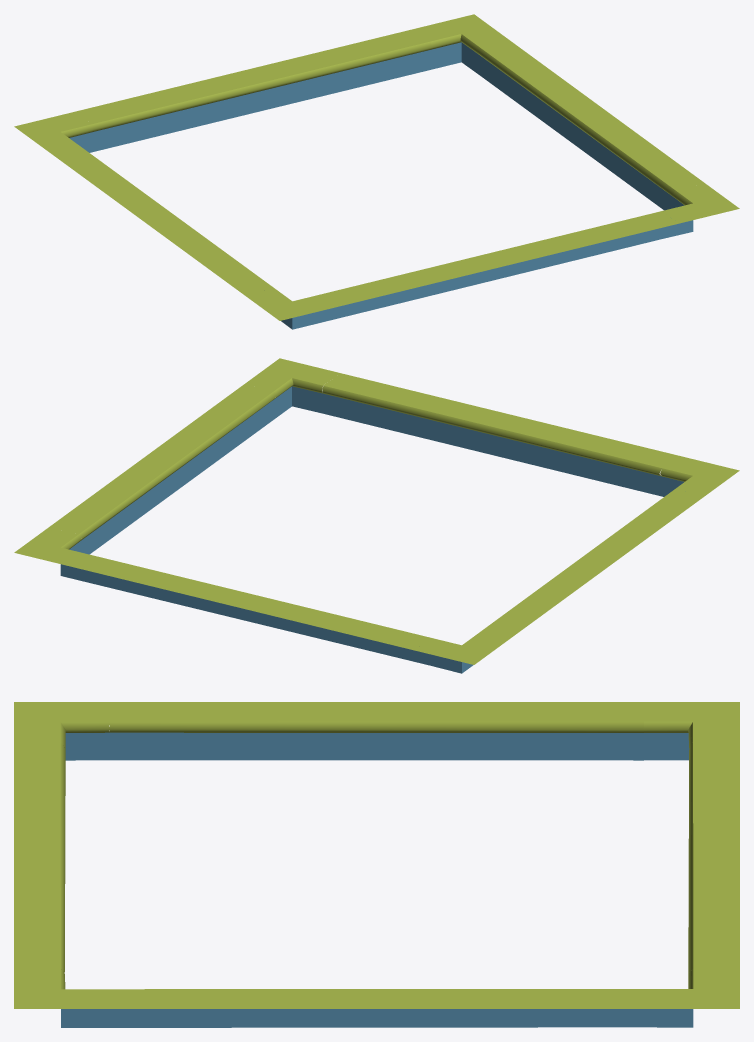
File: ModuleSci_steps_2.FBX
The picture shows the model from 3 angles, top to bottom: view 1: azimuth 30°, elevation 25°; view 2: azimuth 150°, elevation 25°; view 3: azimuth 270°, elevation 25°; orthographic projection. The views are drawn at different scales.
Parts seen in each view (by area): view 1: Module_sci_stair_044, Module_sci_stair_041, Module_sci_stair_043, Module_sci_stair_042, Module_sci_stair_045, Module_sci_stair_046, Module_sci_stair_047, Module_sci_stair_040; view 2: Module_sci_stair_043, Module_sci_stair_041, Module_sci_stair_044, Module_sci_stair_042, Module_sci_stair_046, Module_sci_stair_045, Module_sci_stair_040, Module_sci_stair_047; view 3: Module_sci_stair_042, Module_sci_stair_041, Module_sci_stair_043, Module_sci_stair_044, Module_sci_stair_047, Module_sci_stair_040, Module_sci_stair_045, Module_sci_stair_046.
Part boxes in pixels (x1,y1,x2,y2): Module_sci_stair_044: (75,29,431,152); Module_sci_stair_041: (477,40,704,210); Module_sci_stair_043: (323,211,678,321); Module_sci_stair_042: (49,145,273,295); Module_sci_stair_045: (413,14,508,74); Module_sci_stair_046: (662,183,739,238); Module_sci_stair_047: (14,111,93,152); Module_sci_stair_040: (245,288,340,329); Module_sci_stair_043: (322,373,678,496); Module_sci_stair_041: (49,384,276,554); Module_sci_stair_044: (75,555,430,665); Module_sci_stair_042: (480,489,704,639); Module_sci_stair_046: (245,358,339,419); Module_sci_stair_045: (14,527,91,583); Module_sci_stair_040: (660,455,739,496); Module_sci_stair_047: (414,632,508,673); Module_sci_stair_042: (109,702,643,760); Module_sci_stair_041: (110,989,644,1027); Module_sci_stair_043: (14,742,65,973); Module_sci_stair_044: (688,742,739,973); Module_sci_stair_047: (643,702,739,760); Module_sci_stair_040: (14,702,109,760); Module_sci_stair_045: (644,968,739,1027); Module_sci_stair_046: (14,968,109,1027).
Bounding box in the file's own units: 78.74 × 4.64 × 78.74.
